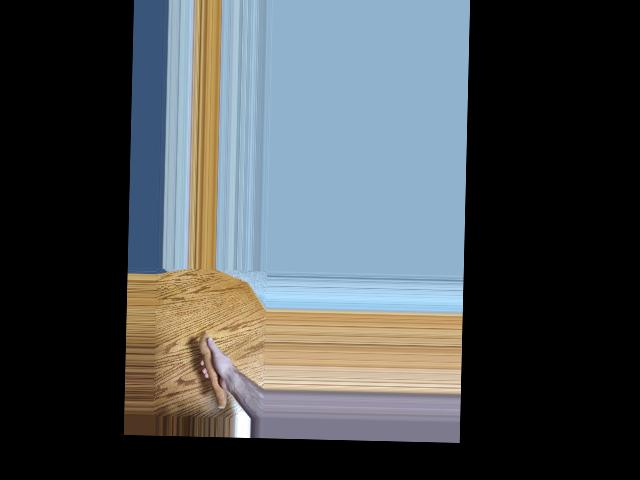sweet_potato: (194, 334, 231, 409)
